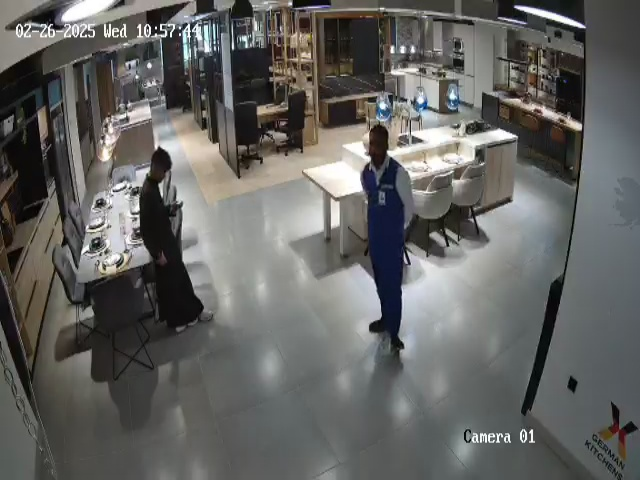employee: (360, 125, 416, 352)
male: (139, 147, 215, 334)
